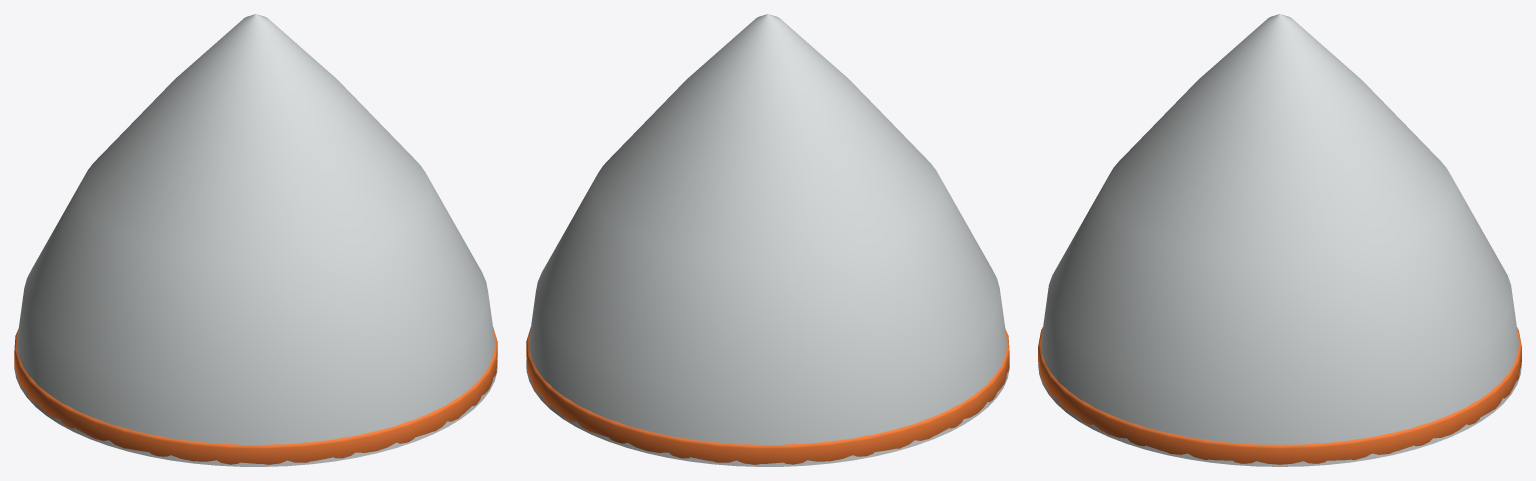
The model's file is nose.glb.
The picture shows the model from 3 angles, left to right: view 1: azimuth 30°, elevation 25°; view 2: azimuth 150°, elevation 25°; view 3: azimuth 270°, elevation 25°; orthographic projection.
Parts seen in each view (by area): view 1: Ogive fairing; view 2: Ogive fairing; view 3: Ogive fairing.
Boxes of the visible parts, x1,y1,x2,y2 form: Ogive fairing: [14, 14, 497, 466]; Ogive fairing: [526, 14, 1009, 466]; Ogive fairing: [1038, 14, 1521, 466].
Size of the model in its own units: 1.25 by 1 by 1.25.
